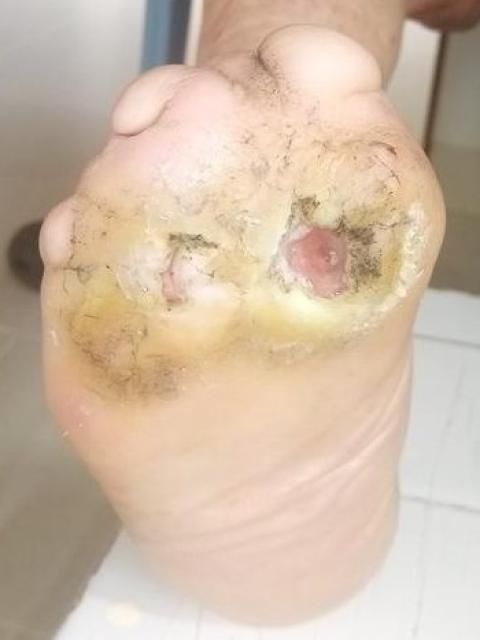wound: (270, 194, 367, 300), (158, 241, 189, 315)
